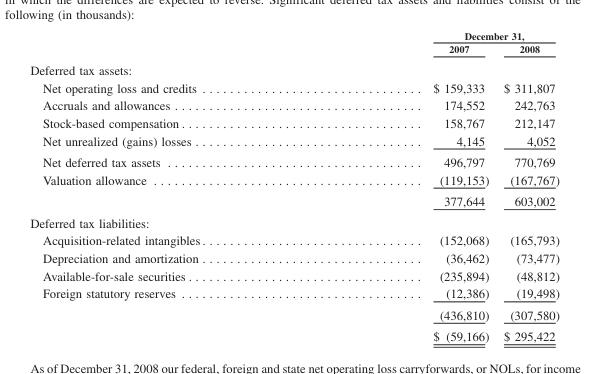table: (29, 29, 558, 343)
table column: (29, 29, 318, 343), (318, 29, 495, 343), (495, 29, 558, 343)
table column header: (29, 29, 558, 58)
table projected row header: (29, 58, 558, 78), (29, 211, 558, 231)
table row: (29, 303, 558, 325), (29, 190, 558, 211), (29, 58, 558, 78), (29, 131, 558, 151), (29, 170, 558, 190), (29, 211, 558, 231), (29, 151, 558, 170), (29, 284, 558, 303), (29, 78, 558, 96), (29, 113, 558, 131), (29, 248, 558, 266), (29, 266, 558, 284), (29, 325, 558, 343), (29, 41, 558, 58), (29, 96, 558, 113), (29, 231, 558, 248), (29, 29, 558, 41)
table spanning cell: (318, 29, 558, 41)
